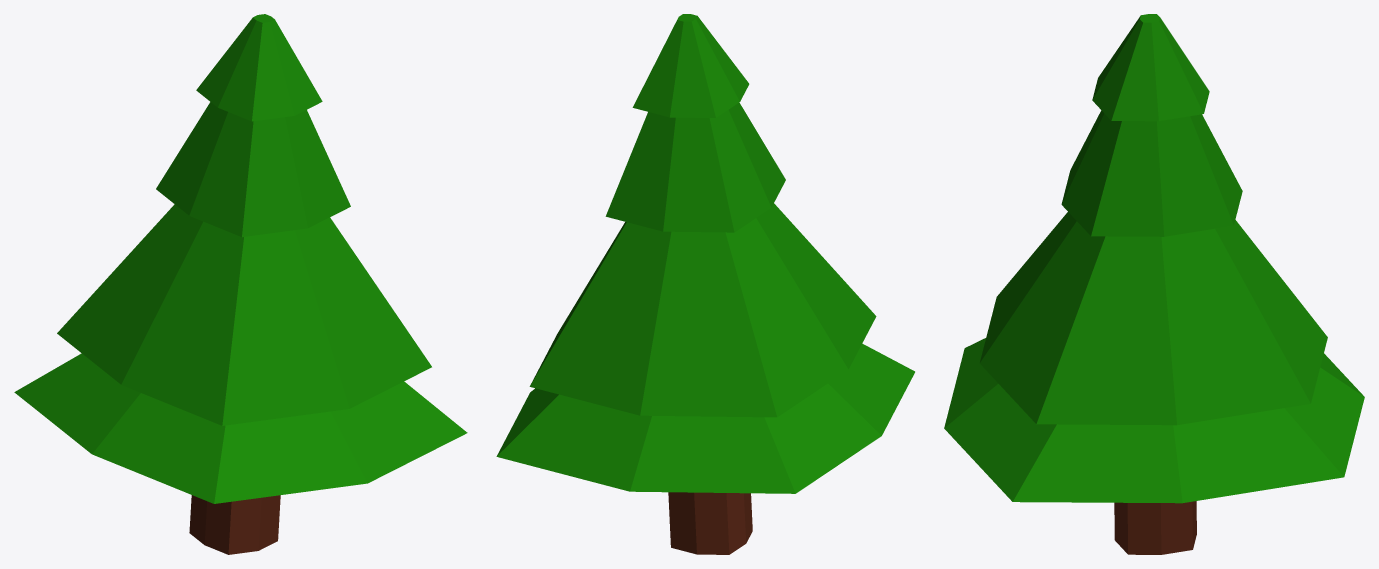
File: TreesInTheDistance-1.fbx
3 renders of one model, left to right at view 1: azimuth 30°, elevation 25°; view 2: azimuth 150°, elevation 25°; view 3: azimuth 270°, elevation 25°, orthographic. The views are drawn at different scales.
Parts seen in each view (by area): view 1: TreeDistant-1.350; view 2: TreeDistant-1.350; view 3: TreeDistant-1.350.
Boxes of the visible parts, x1=… form: TreeDistant-1.350: x1=14, y1=14, x2=467, y2=554; TreeDistant-1.350: x1=496, y1=14, x2=914, y2=554; TreeDistant-1.350: x1=944, y1=14, x2=1364, y2=554.
Bounding box in the file's own units: 284 × 263 × 399.
